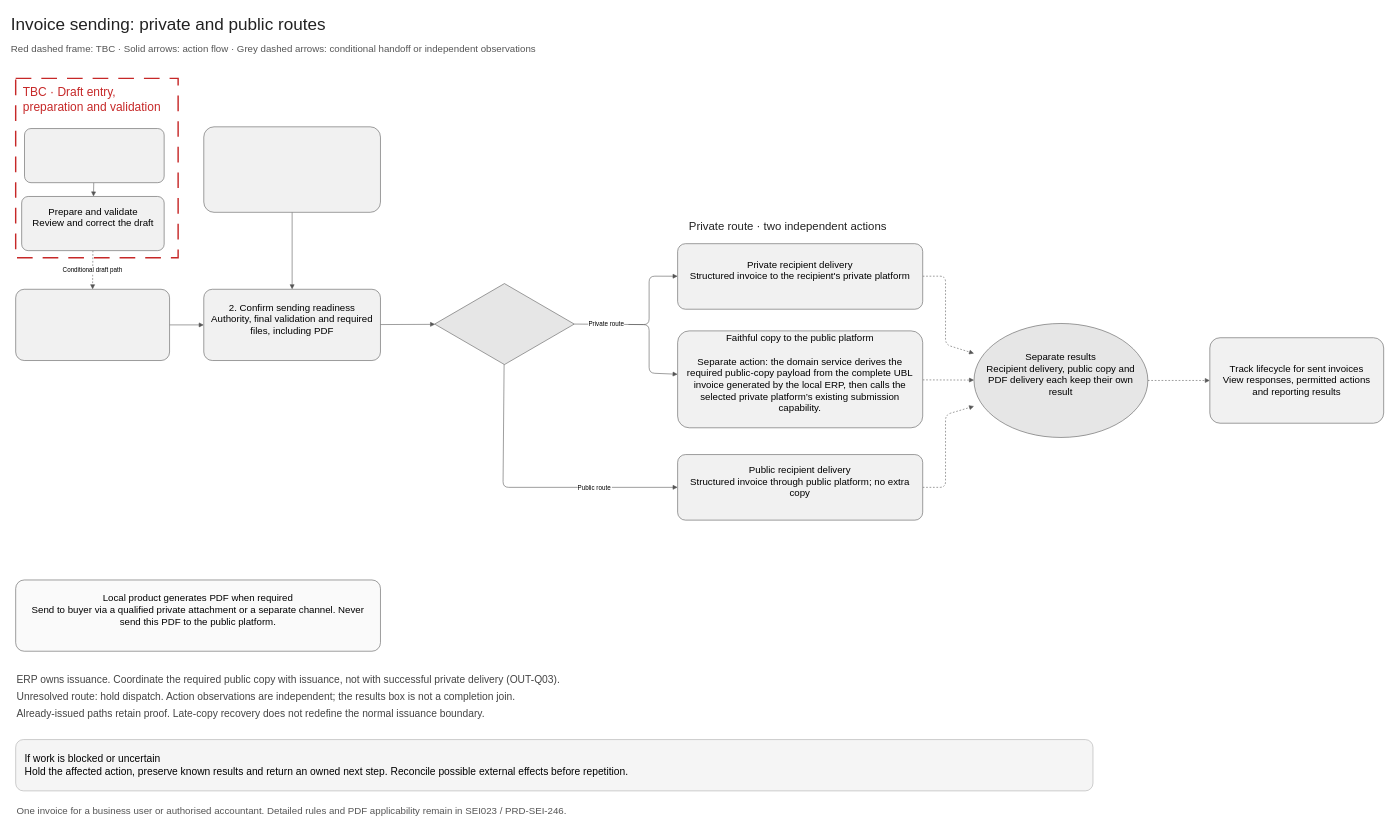
Some shapes in this 1394 by 826 pixel diagram are drawn without their labels. The centre of each missing label's shape, as x and y in pixels:
"1. Provide final invoice Final candidate or existing issued proof" belongs at point (92, 325).
"Check connected (platforms)access points Available sending / receiving platforms" belongs at point (291, 169).
"Draft entry Complete business invoice data" belongs at point (94, 155).
"Recipient route?" belongs at point (504, 324).
